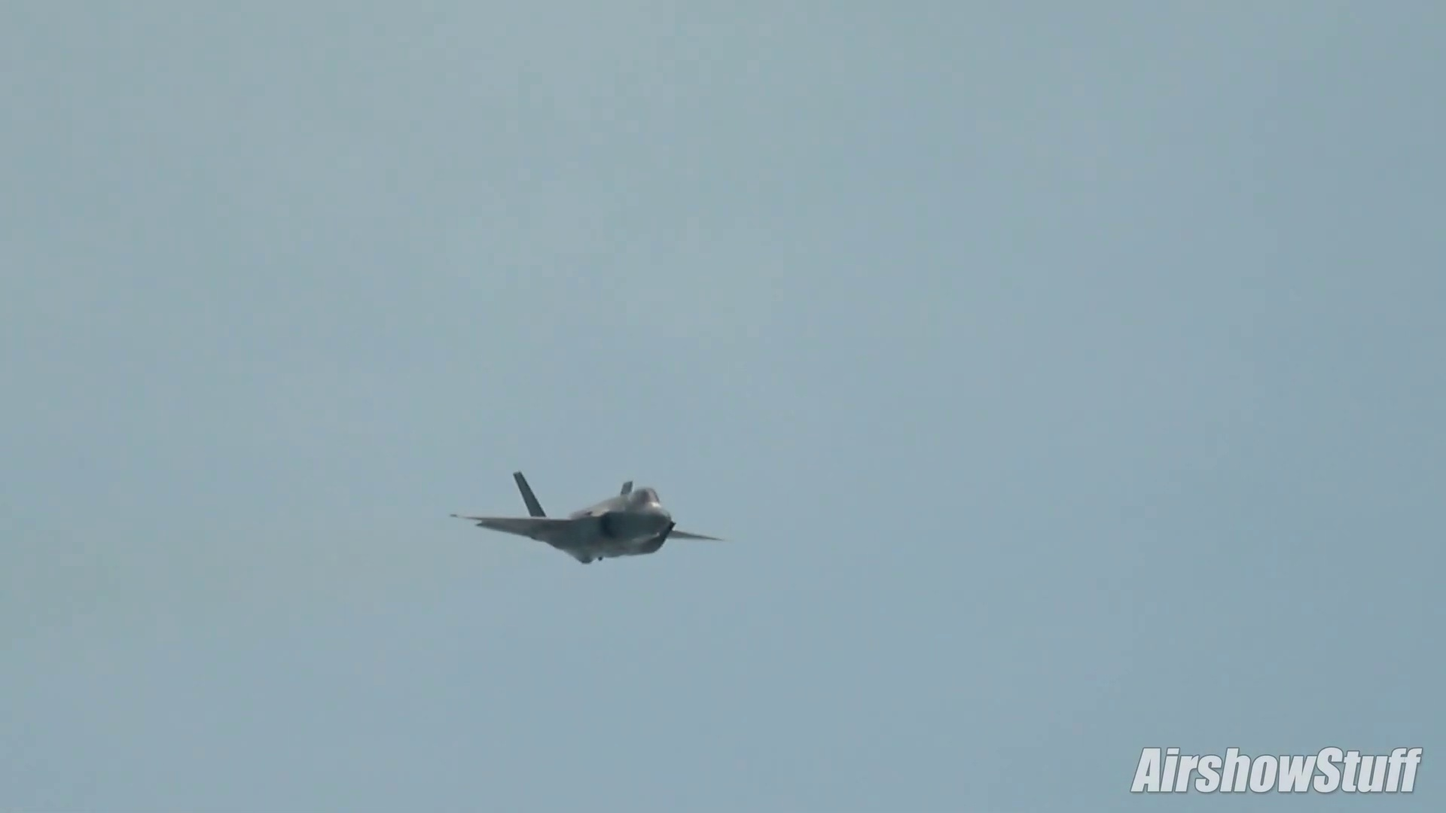F35: (444, 467, 727, 565)
